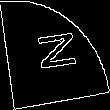N_W: (30, 31, 80, 79)
